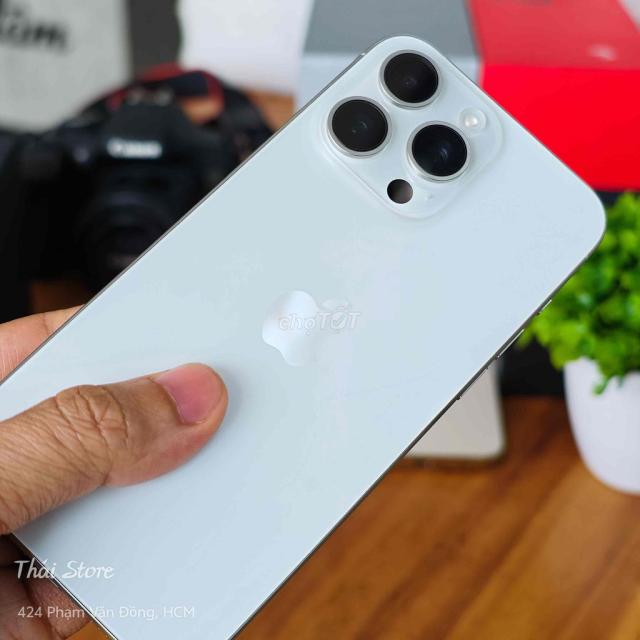gen_15: (0, 25, 613, 638)
